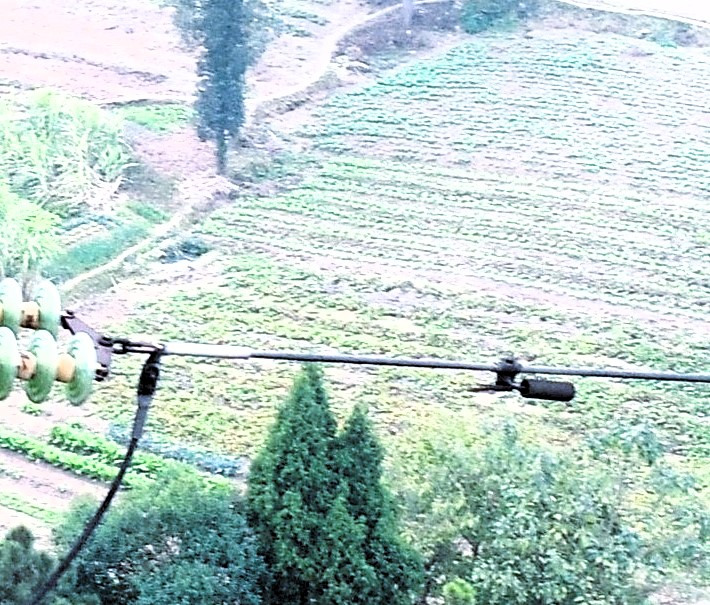Damage of shockproof hammer: (458, 351, 585, 416)
